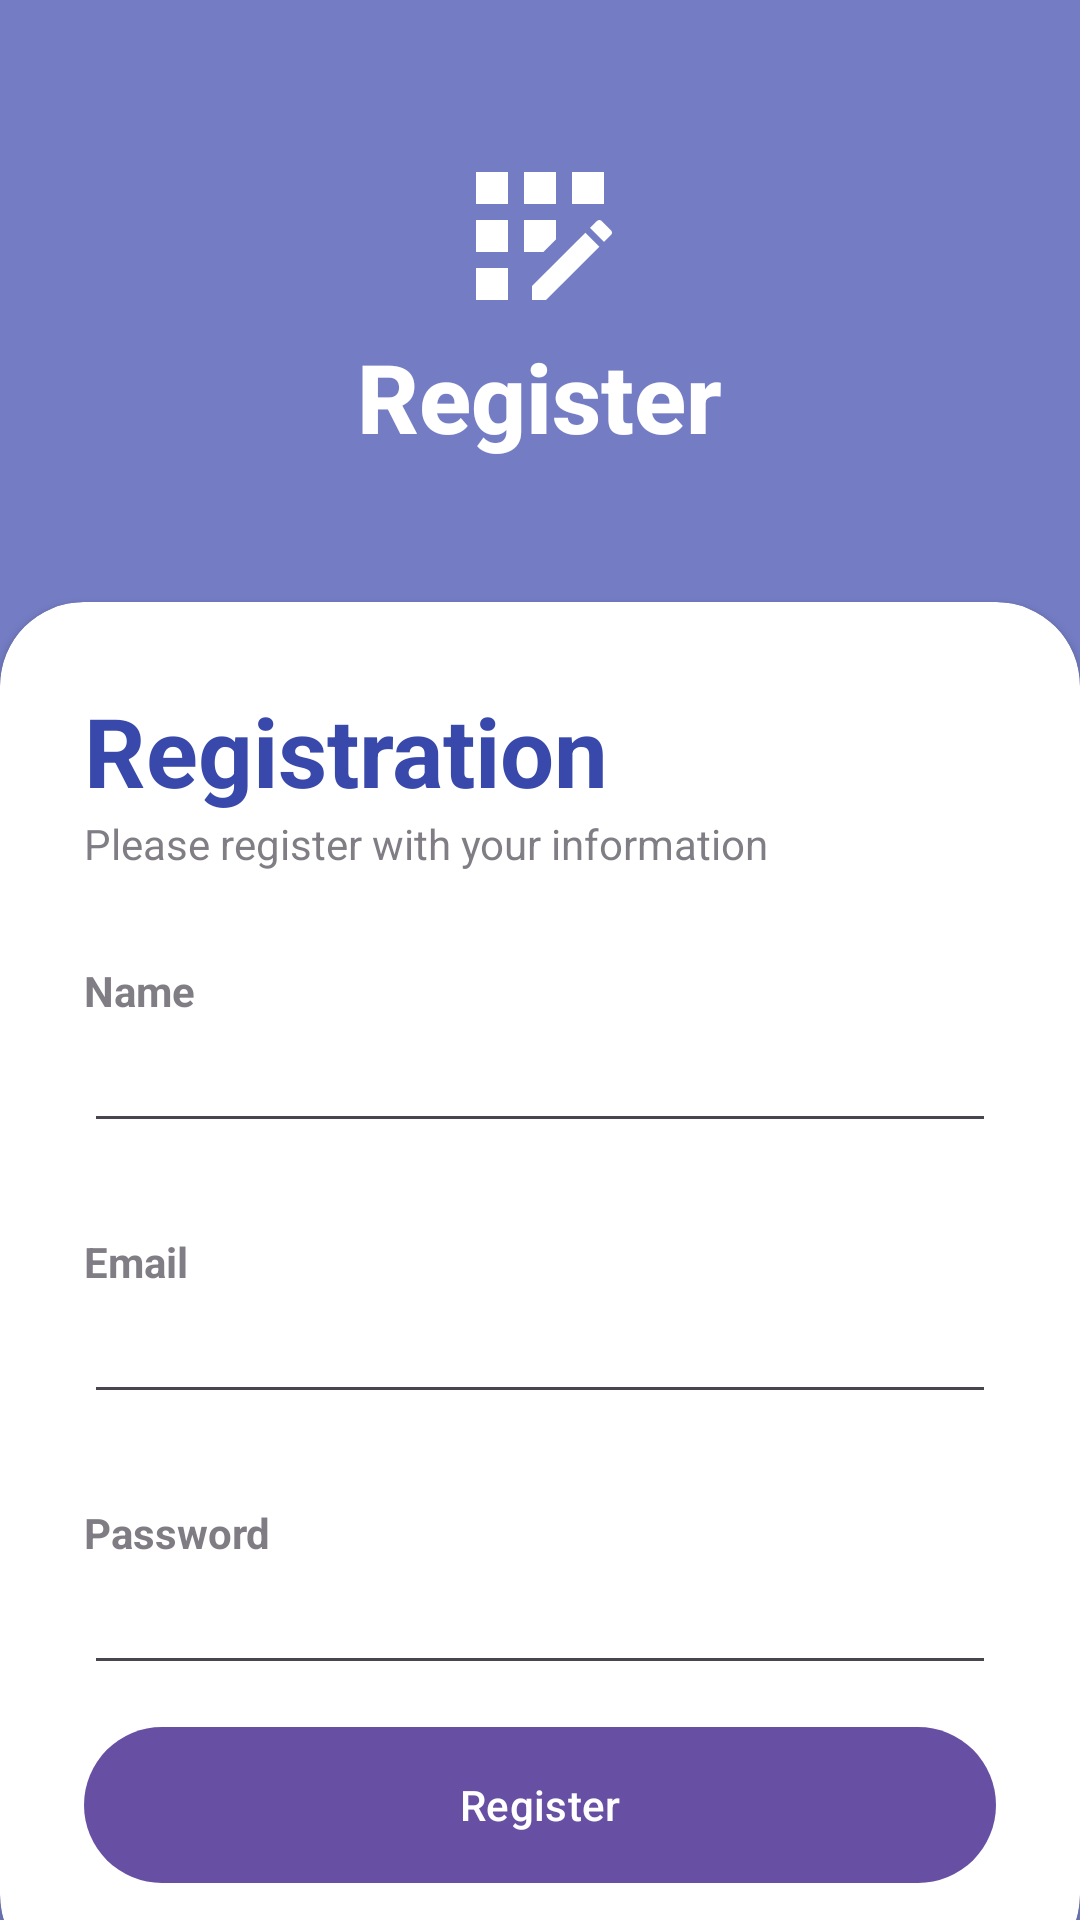

Icons on this 1080×1920 Android screen, each with its box as (x1=x1, y1=y1, x2=x2, y2=y2):
resigter: (x1=476, y1=172, x2=612, y2=300)
